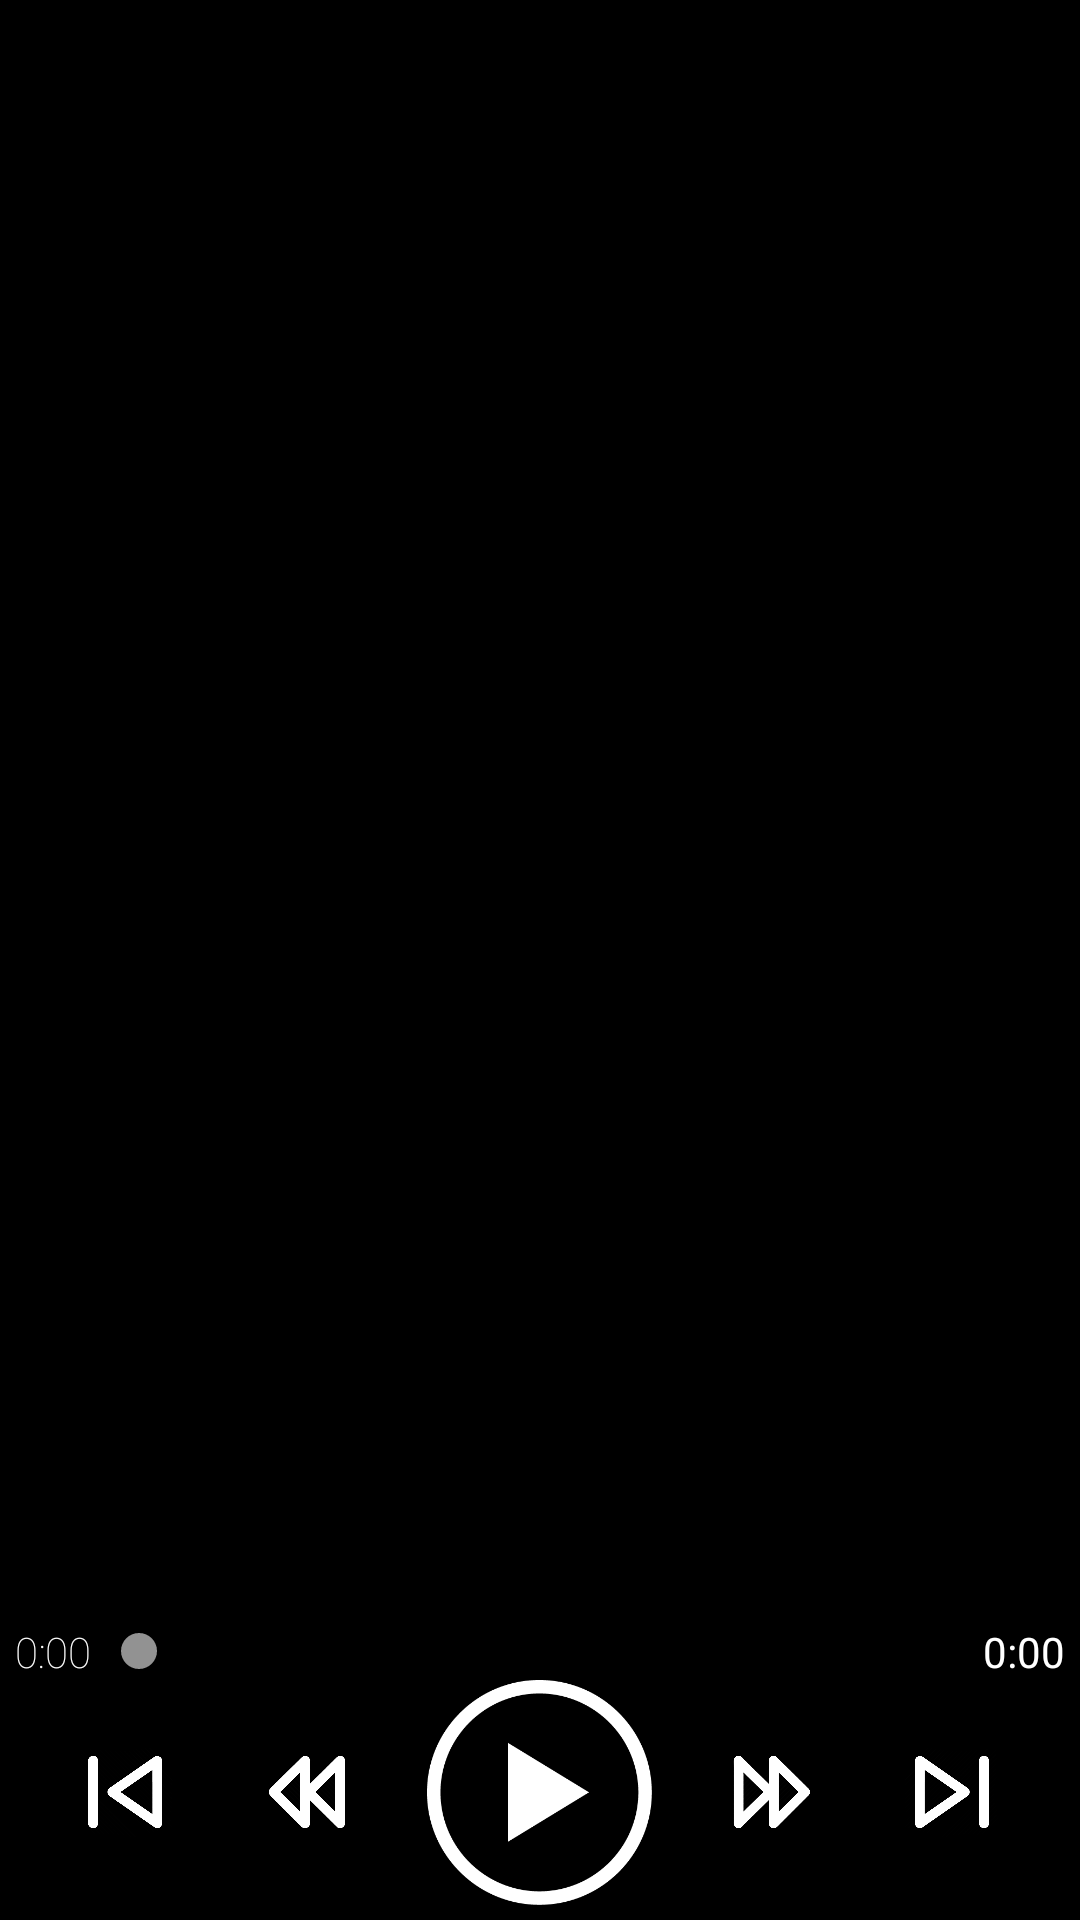

Icons on this 1080x1920 Android screen, each with the point to tap as point (x, y):
backward: point (307, 1792)
forward: point (771, 1792)
next: point (952, 1792)
play pause toggle: point (539, 1792)
previous: point (125, 1792)
